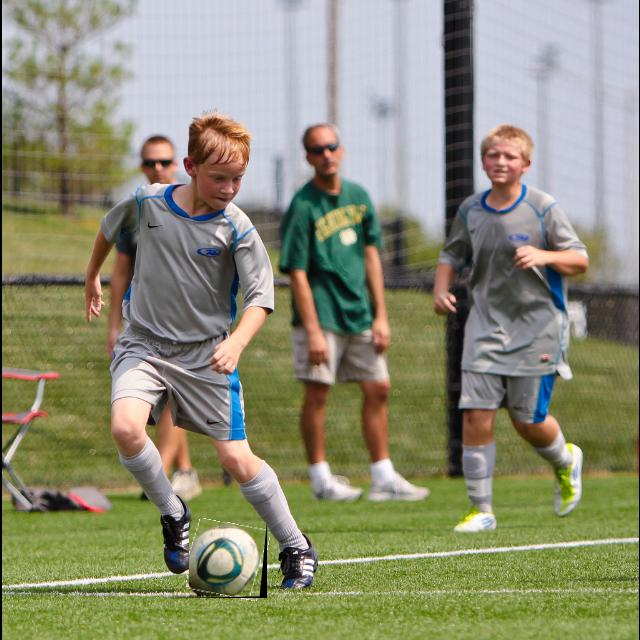Football: (189, 522, 267, 598)
